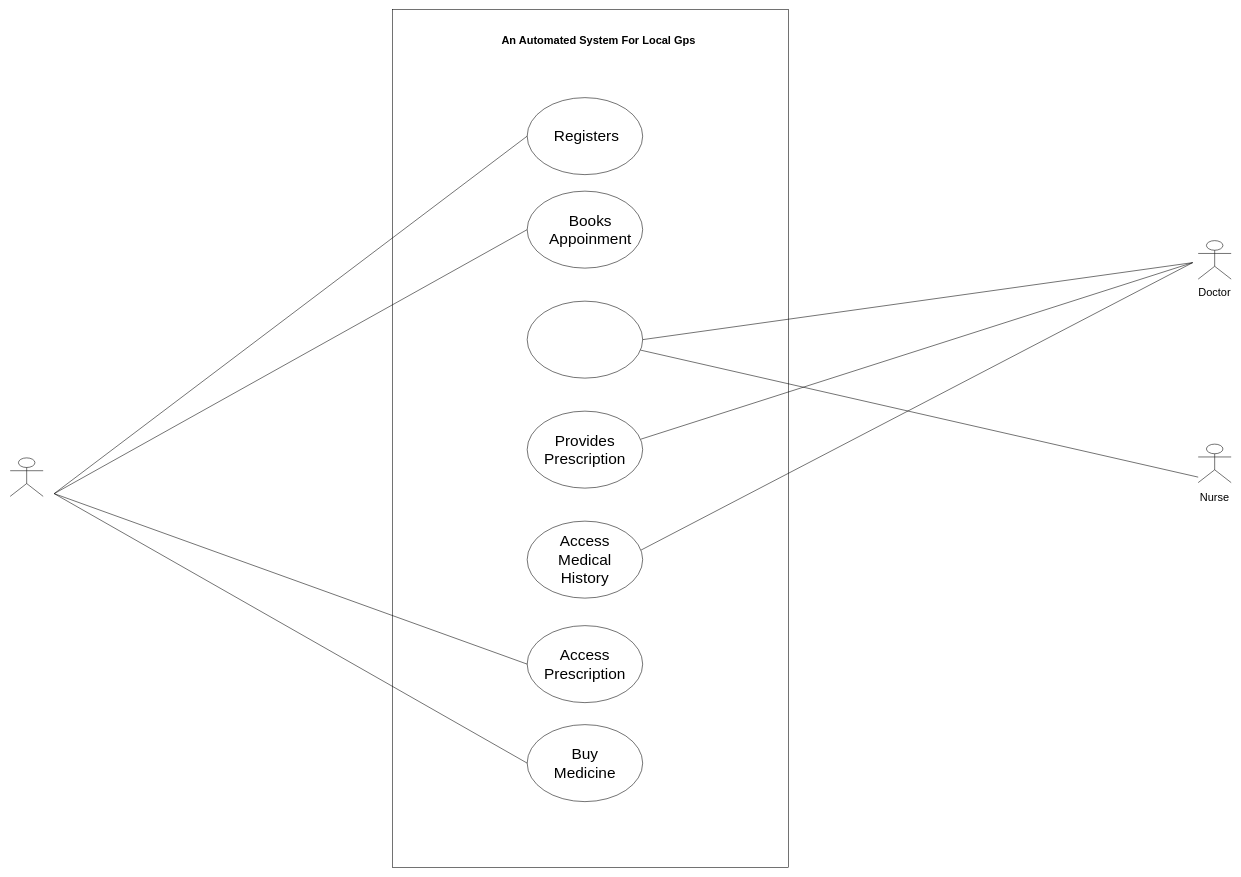
This 1241x877 diagram has some shape labels left out. The shapes that lost their labels are listed below. From the top down, each one's centre as x and y in pixels, then its label:
At point (585, 339): "Set Avaibility".
At point (26, 476): "Patient".
